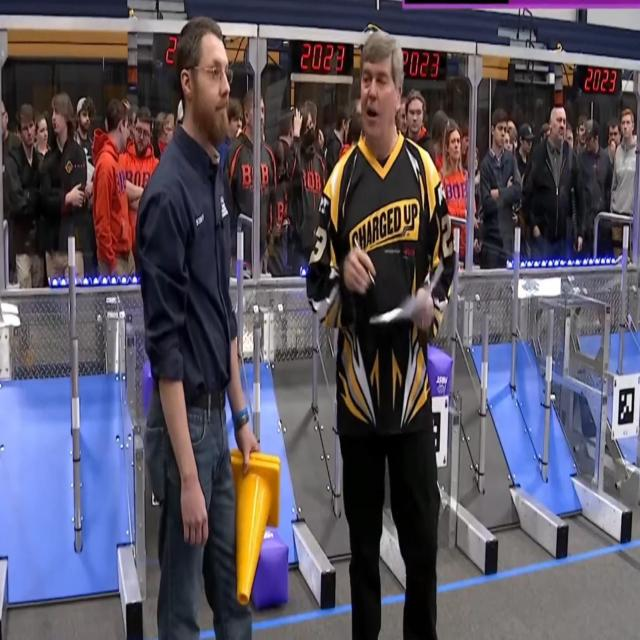frc_cone: (226, 442, 282, 610)
frc_cube: (253, 532, 287, 608), (427, 347, 451, 398), (139, 361, 159, 422)
